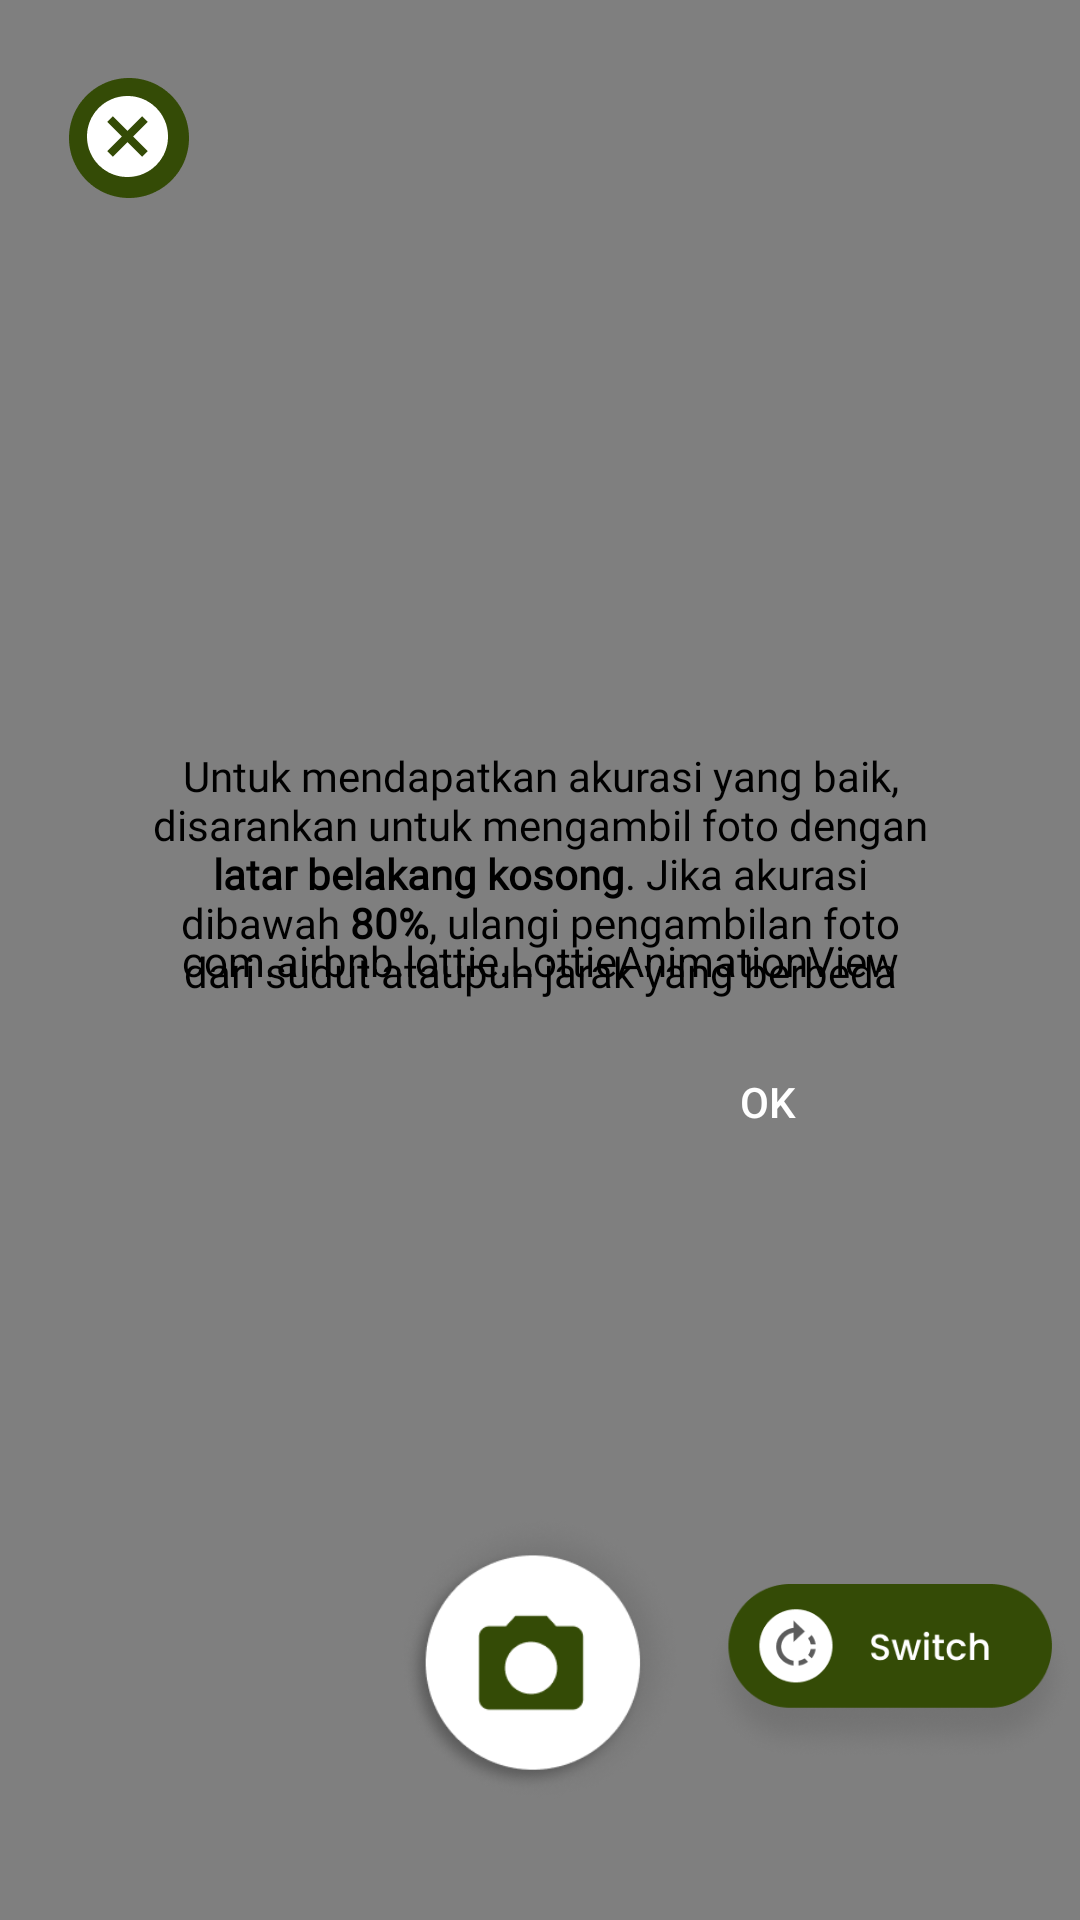

Icons on this 1080*1920 Android screen, each with its box as bbox=(x1, y1, x2, y2):
camerax: bbox=(421, 1555, 640, 1775)
exit: bbox=(69, 78, 189, 198)
